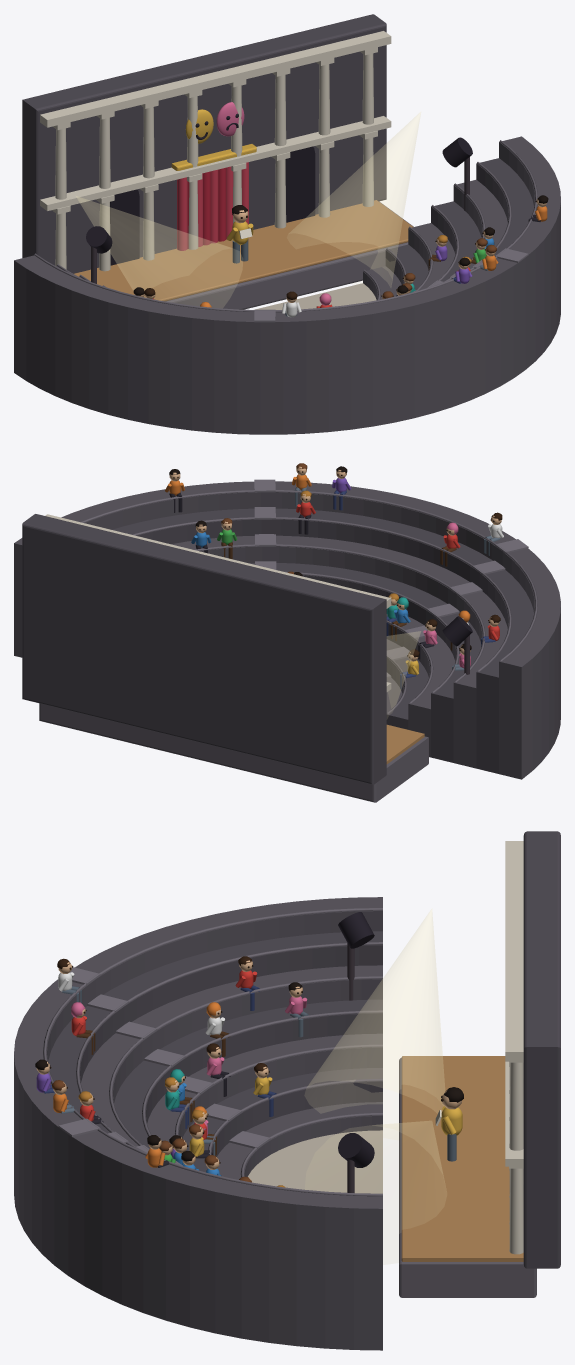
File: theatre.glb
3 renders of one model, top to bottom at view 1: azimuth 30°, elevation 25°; view 2: azimuth 150°, elevation 25°; view 3: azimuth 270°, elevation 25°, orthographic. The views are drawn at different scales.
Parts seen in each view (by area): view 1: part_000, part_002, part_001, part_003; view 2: part_000, part_001; view 3: part_000, part_001, part_002, part_003.
Boxes of the visible parts, x1,y1,x2,y2 form: part_000: [14, 14, 560, 434]; part_002: [287, 112, 420, 286]; part_001: [76, 196, 242, 307]; part_003: [226, 205, 253, 263]; part_000: [14, 463, 560, 802]; part_001: [387, 631, 420, 717]; part_000: [14, 831, 560, 1350]; part_001: [305, 909, 444, 1123]; part_002: [305, 1121, 446, 1264]; part_003: [435, 1087, 463, 1161].
Bounding box in the file's own units: 13.88 × 5.45 × 10.29.
